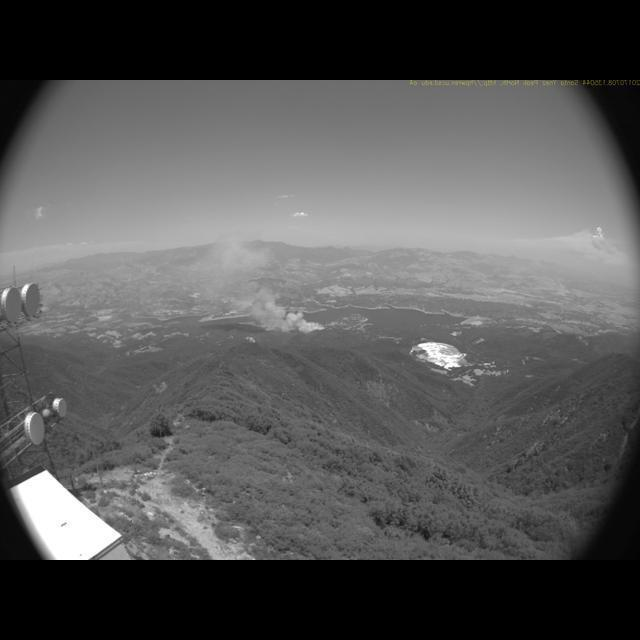Smoke: (181, 234, 328, 336)
